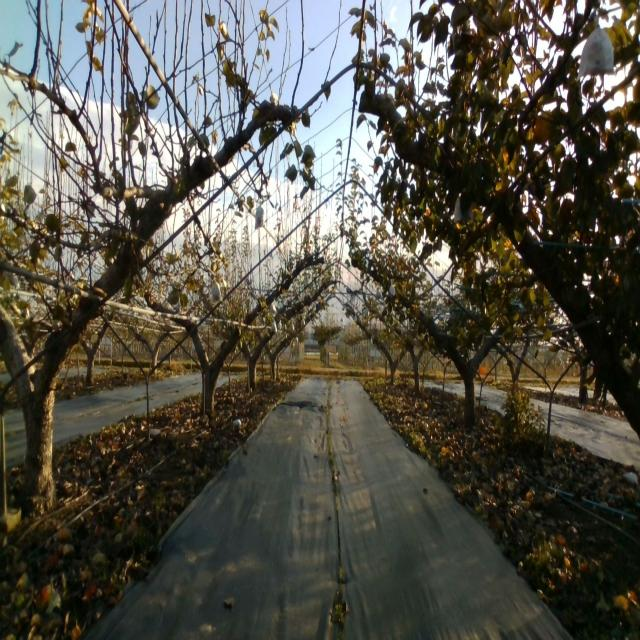pearbags: (575, 15, 616, 81), (210, 276, 222, 302)
